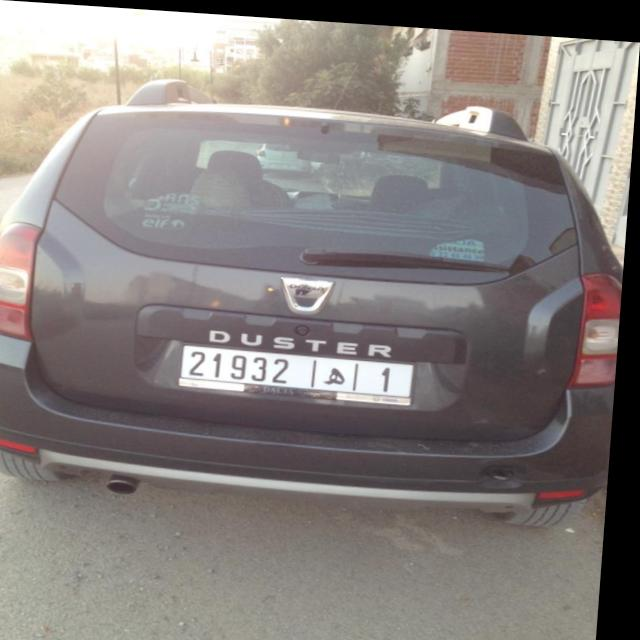License-Plate: (187, 343, 419, 391)
